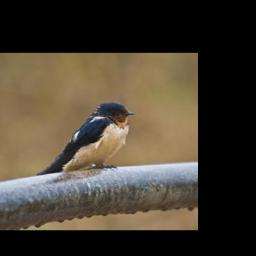Swallow: (36, 101, 135, 176)
